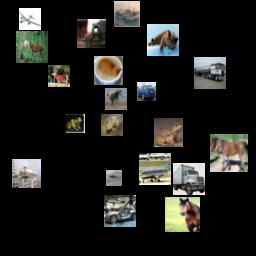airplane: (139, 153, 171, 185), (19, 8, 41, 30), (106, 170, 122, 186)
automobile: (104, 195, 136, 227), (137, 82, 156, 101)
cat: (147, 24, 179, 56), (94, 56, 123, 85)
deer: (16, 31, 48, 63), (48, 65, 70, 87)
frog: (154, 118, 183, 147), (101, 114, 123, 136), (66, 114, 85, 133)
ship: (12, 159, 41, 188), (114, 1, 140, 27)
truck: (194, 57, 226, 89), (173, 163, 205, 195), (77, 19, 106, 48)
